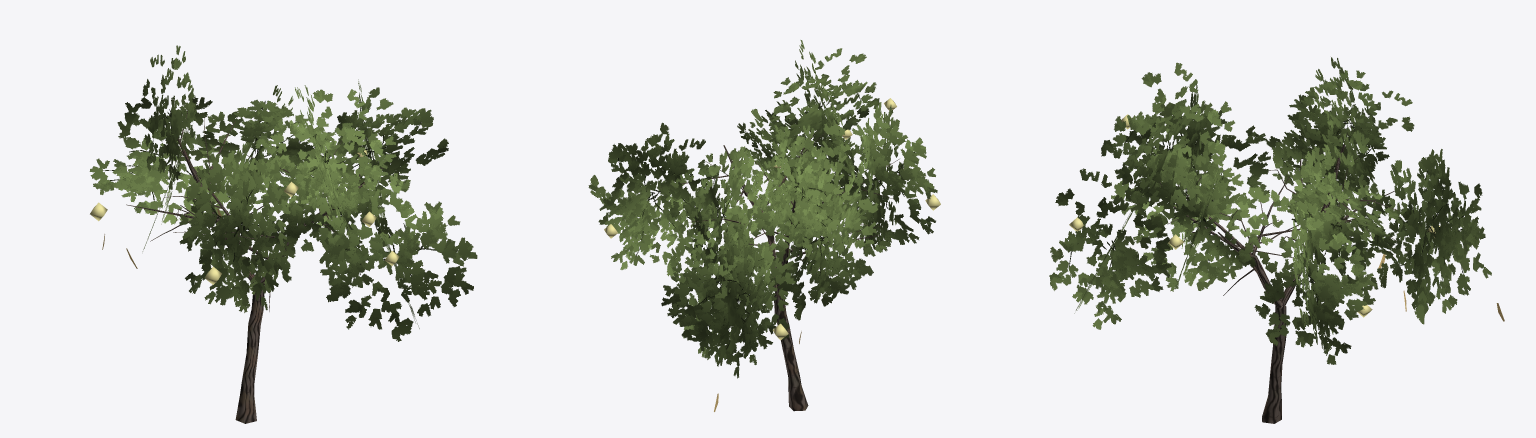
The model's file is young-c.lod1.glb.
The picture shows the model from 3 angles, left to right: view 1: azimuth 30°, elevation 25°; view 2: azimuth 150°, elevation 25°; view 3: azimuth 270°, elevation 25°; orthographic projection. The views are drawn at different scales.
Parts seen in each view (by area): view 1: foliage, bark, flowers; view 2: foliage, bark, flowers; view 3: foliage, bark, flowers.
Boxes of the visible parts, left/top/right/bottom form: foliage: left=89, top=45, right=477, bottom=341; bark: left=126, top=110, right=382, bottom=423; flowers: left=90, top=149, right=399, bottom=284; foliage: left=588, top=40, right=937, bottom=378; bark: left=659, top=131, right=903, bottom=411; flowers: left=604, top=98, right=940, bottom=340; foliage: left=1049, top=57, right=1491, bottom=364; bark: left=1159, top=132, right=1398, bottom=423; flowers: left=1069, top=114, right=1439, bottom=317.
Bounding box in the file's own units: 4.02 × 3.8 × 4.67.
Materials: 4 (3 with a texture image).
